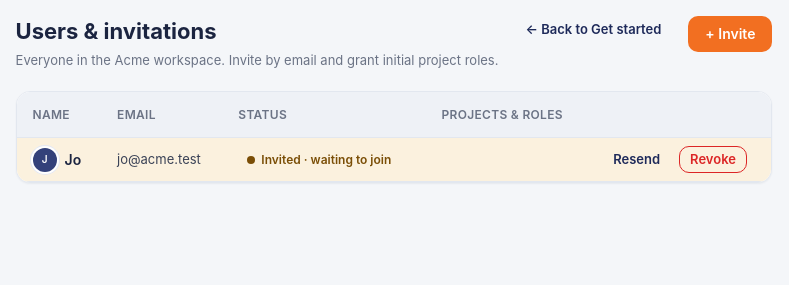
Test case: resending or revoking an invitation › says why it failed instead of doing nothing
Step 1. Click the button "Resend" → click(637, 160), box x1=602 y1=146 x2=671 y2=173
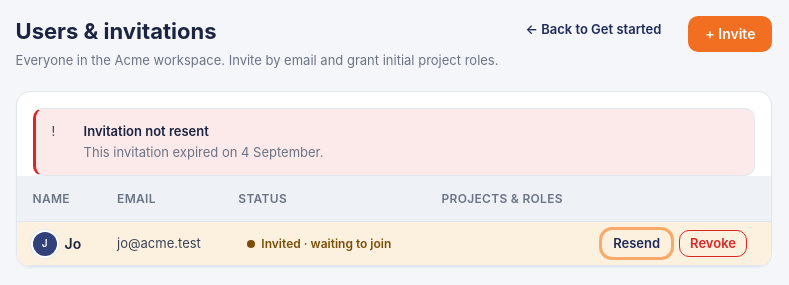
Result: the text "Invitation not resent" is shown at x1=84 y1=123 x2=209 y2=139
Result: the text "This invitation expired on 4 September." is shown at x1=84 y1=144 x2=324 y2=160
